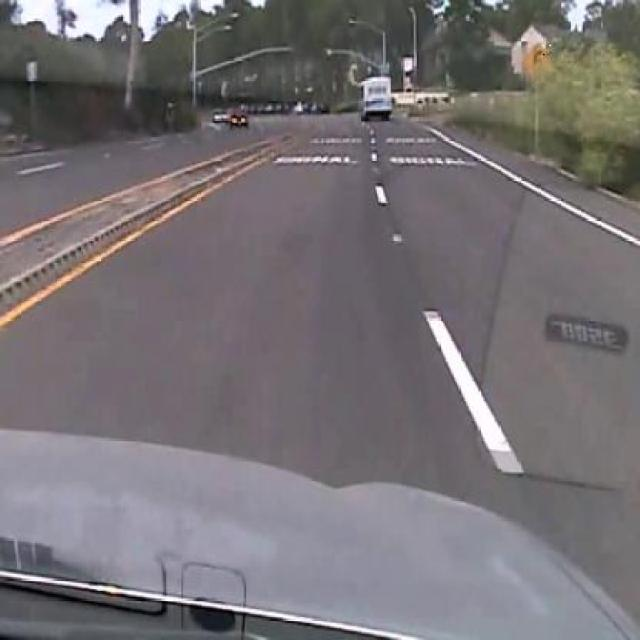signalAhead: (522, 42, 556, 88)
